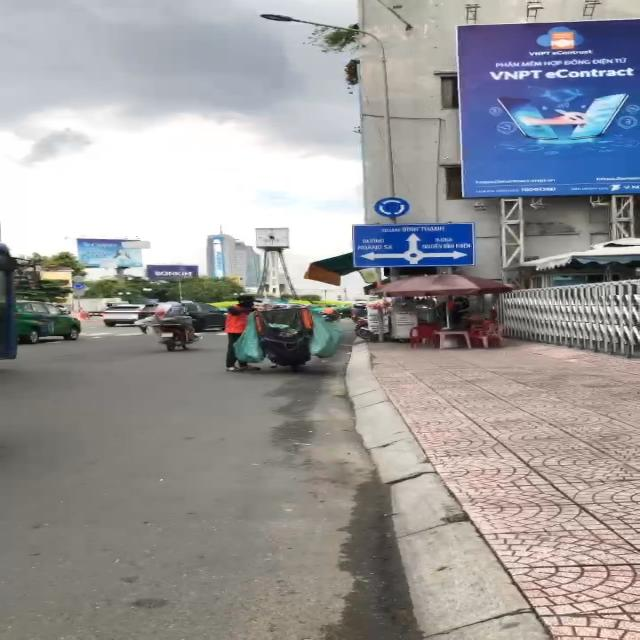Bien bao noi giao nhau chay theo vong xuyen: (370, 195, 412, 219)
